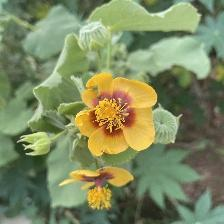indian mallow: (73, 71, 161, 160)
